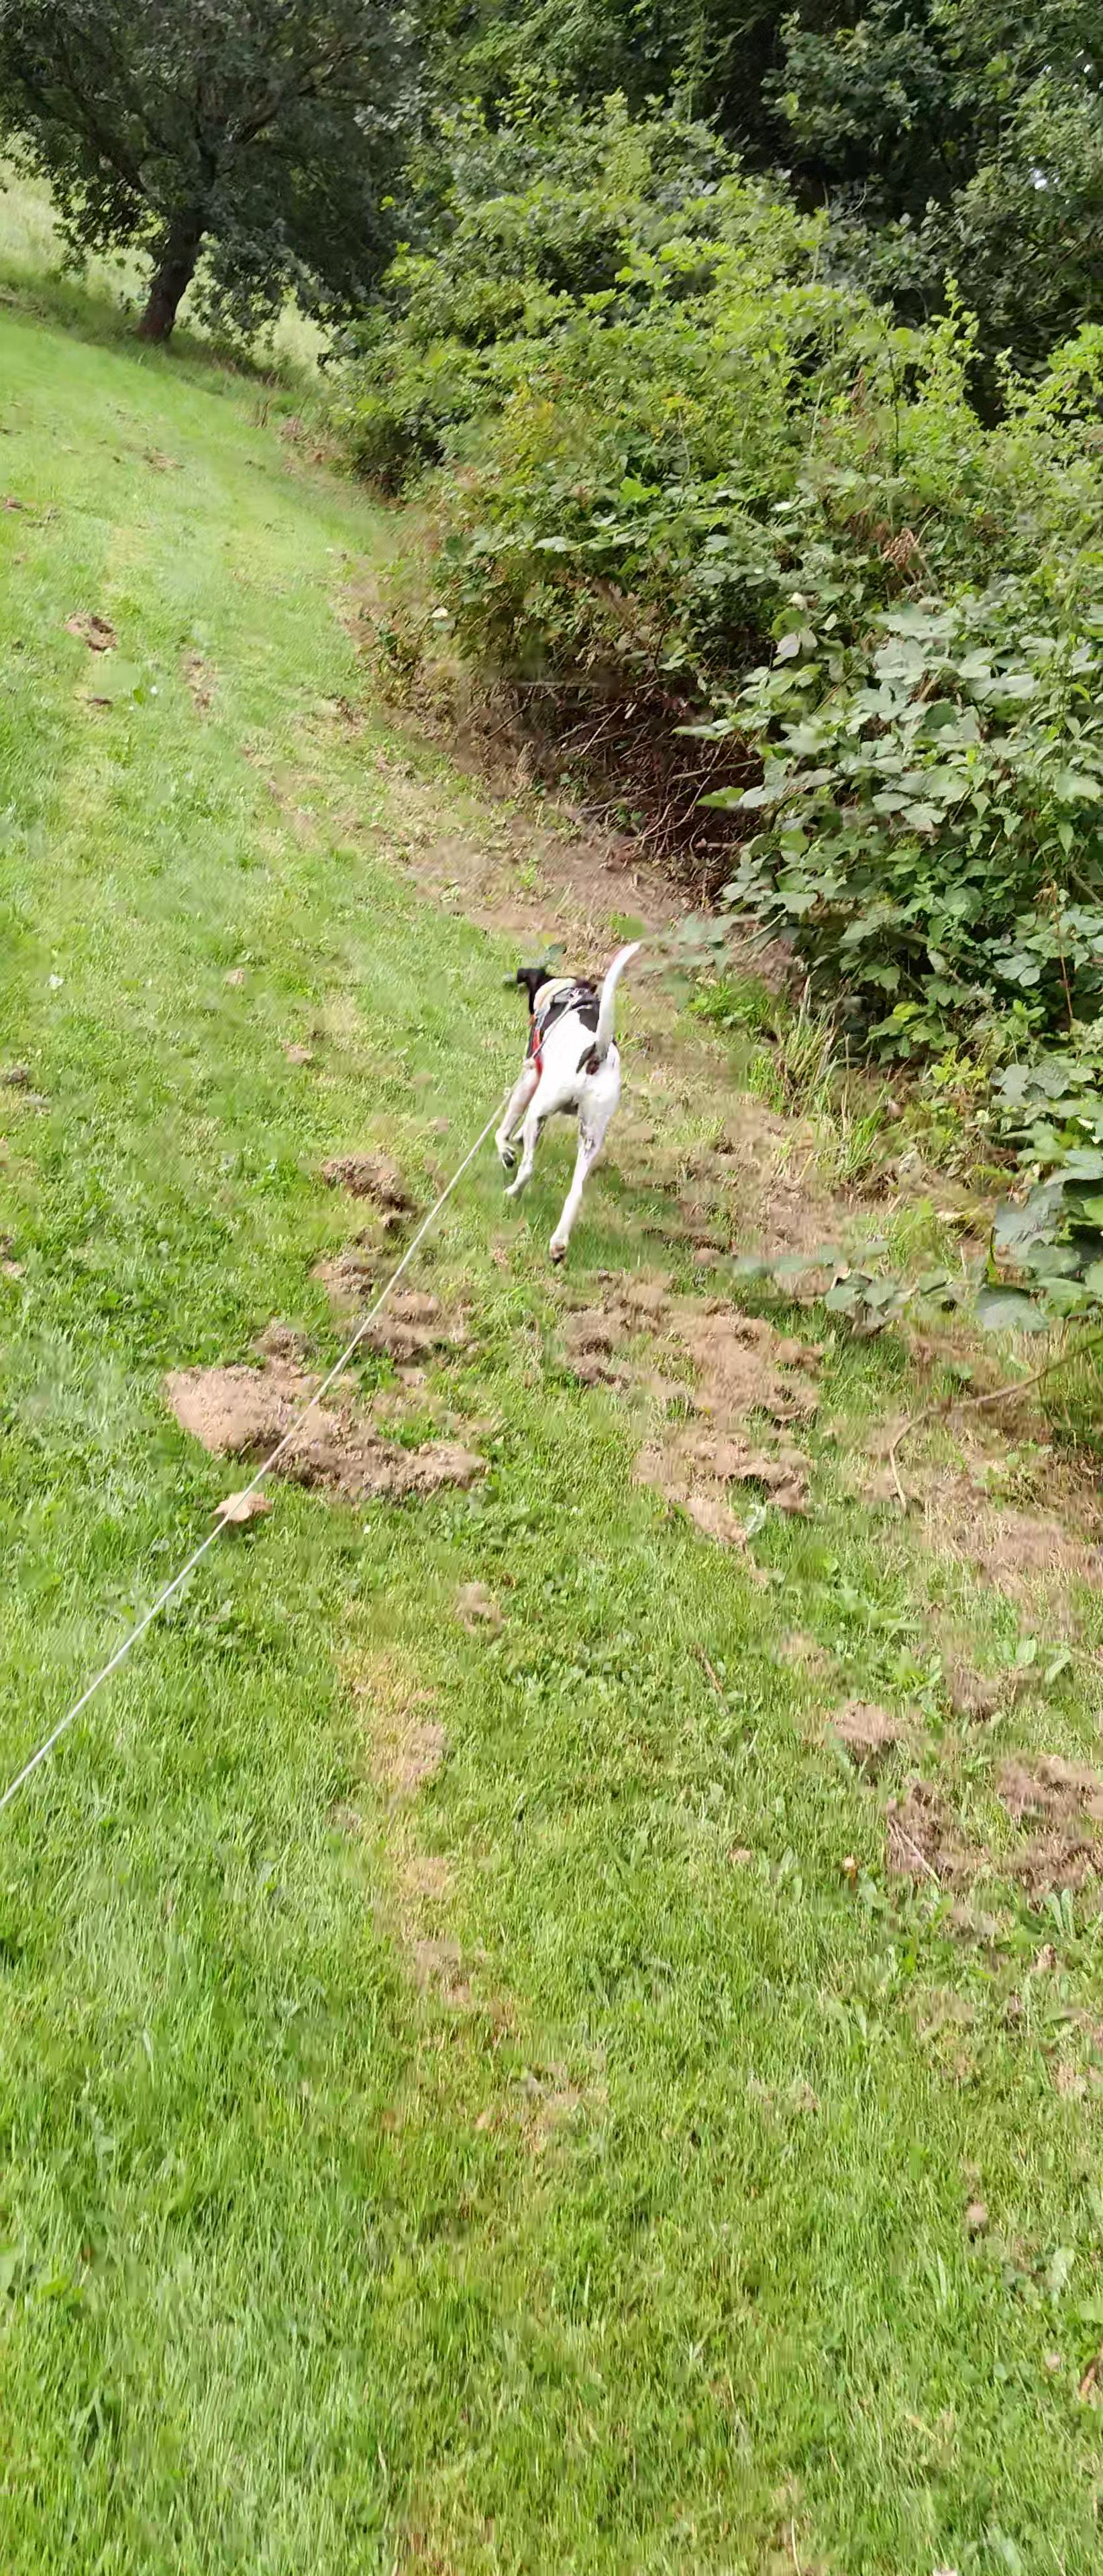Dog: (464, 907, 674, 1285)
